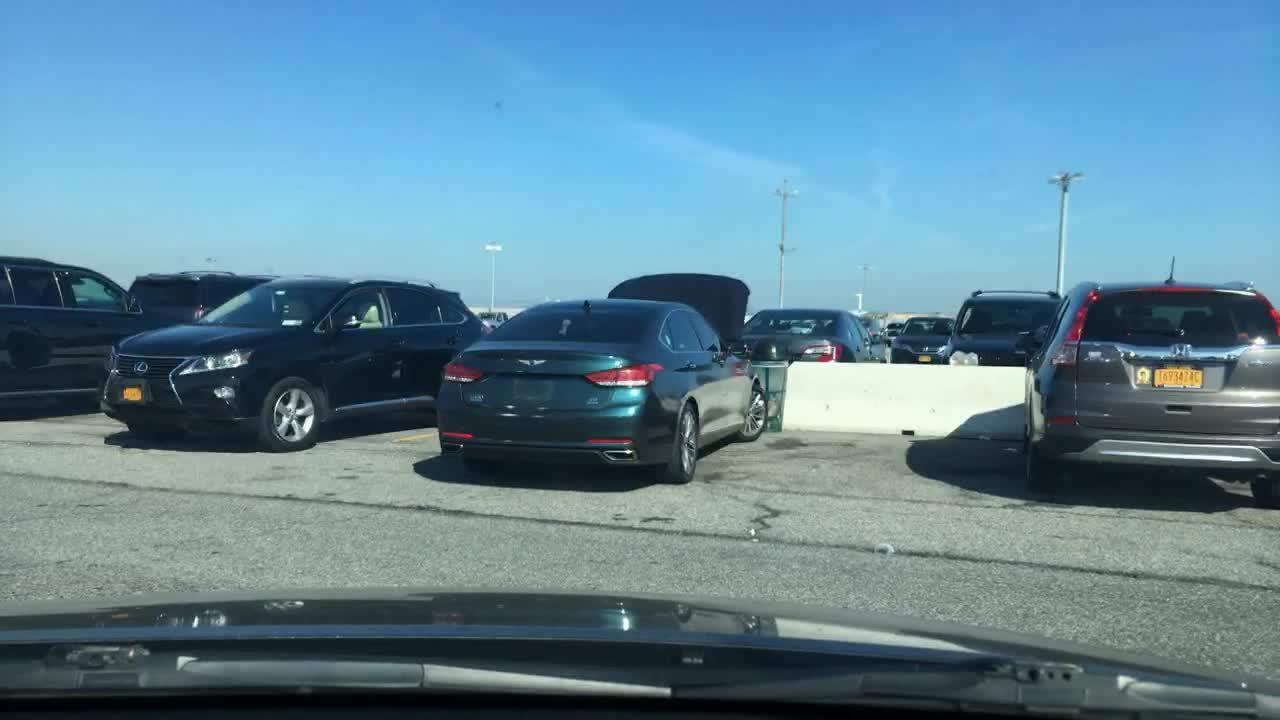Honda: (1166, 343, 1192, 362)
lexus: (129, 358, 151, 377)
